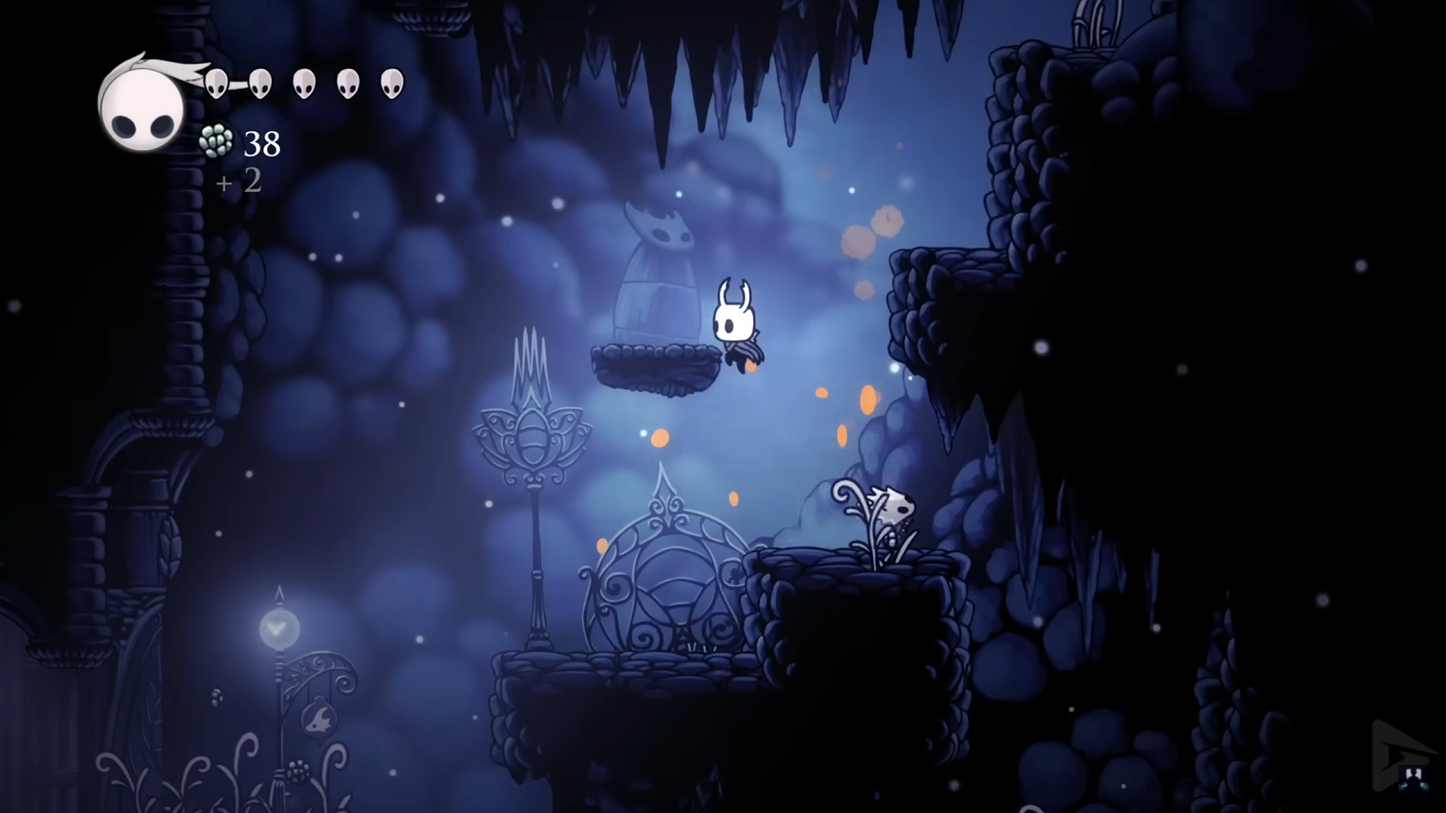HK: (705, 272, 768, 381)
